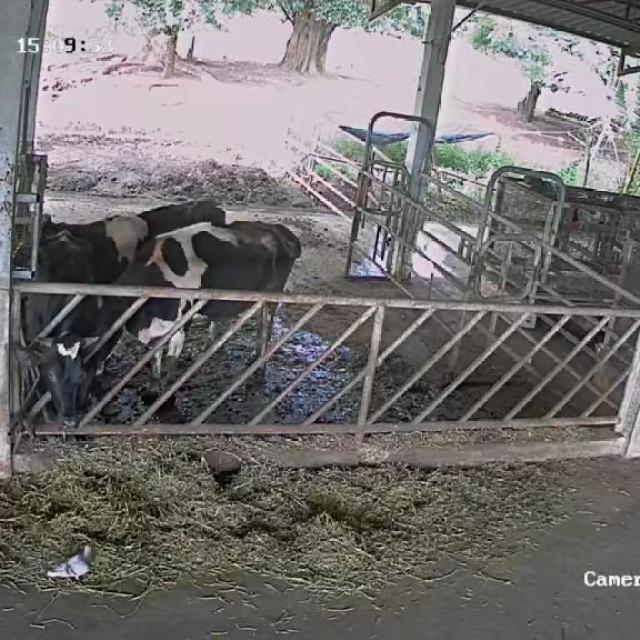feeding: (3, 227, 119, 435)
standing: (92, 221, 300, 395), (8, 199, 230, 289)
